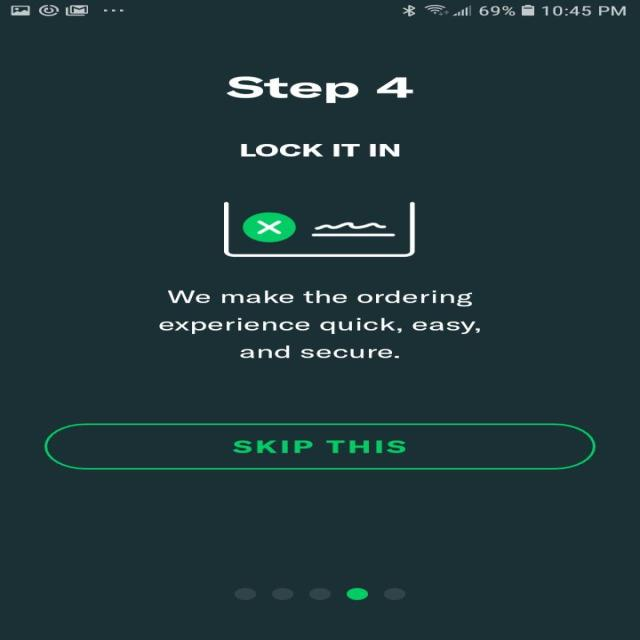Image: (223, 201, 415, 257)
Text: (158, 290, 480, 358), (225, 76, 414, 103), (240, 144, 400, 156)
TextButton: (43, 422, 596, 470)
